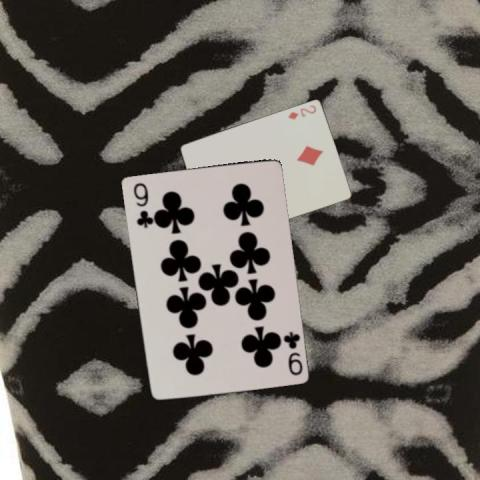2d: (285, 102, 318, 121)
9c: (280, 328, 304, 377), (130, 180, 151, 229)
